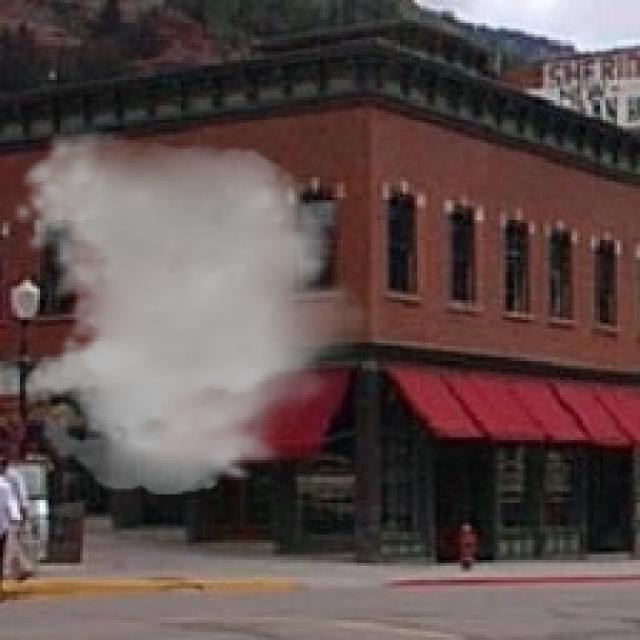Smoke: (11, 128, 380, 494)
